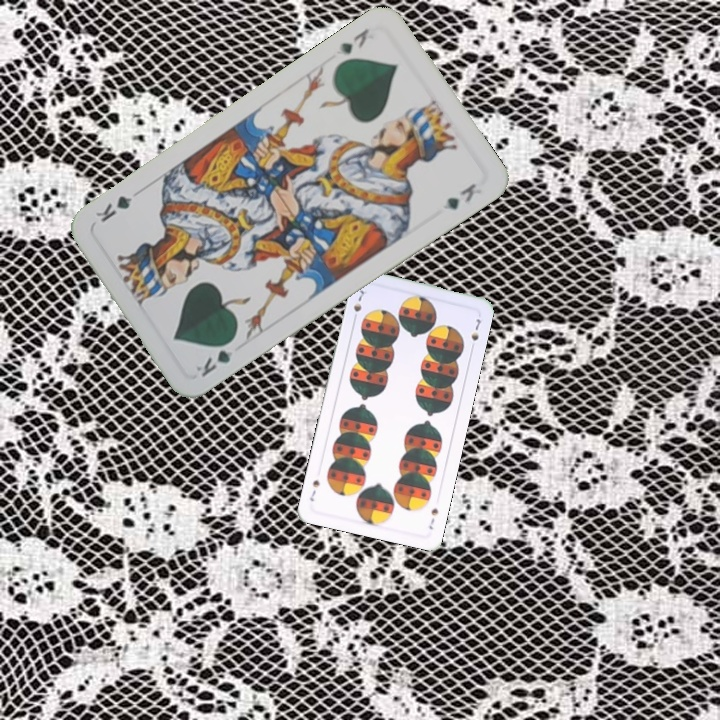GK: (192, 334, 239, 380), (335, 24, 372, 57)
S7: (349, 286, 367, 324), (425, 504, 441, 532)
